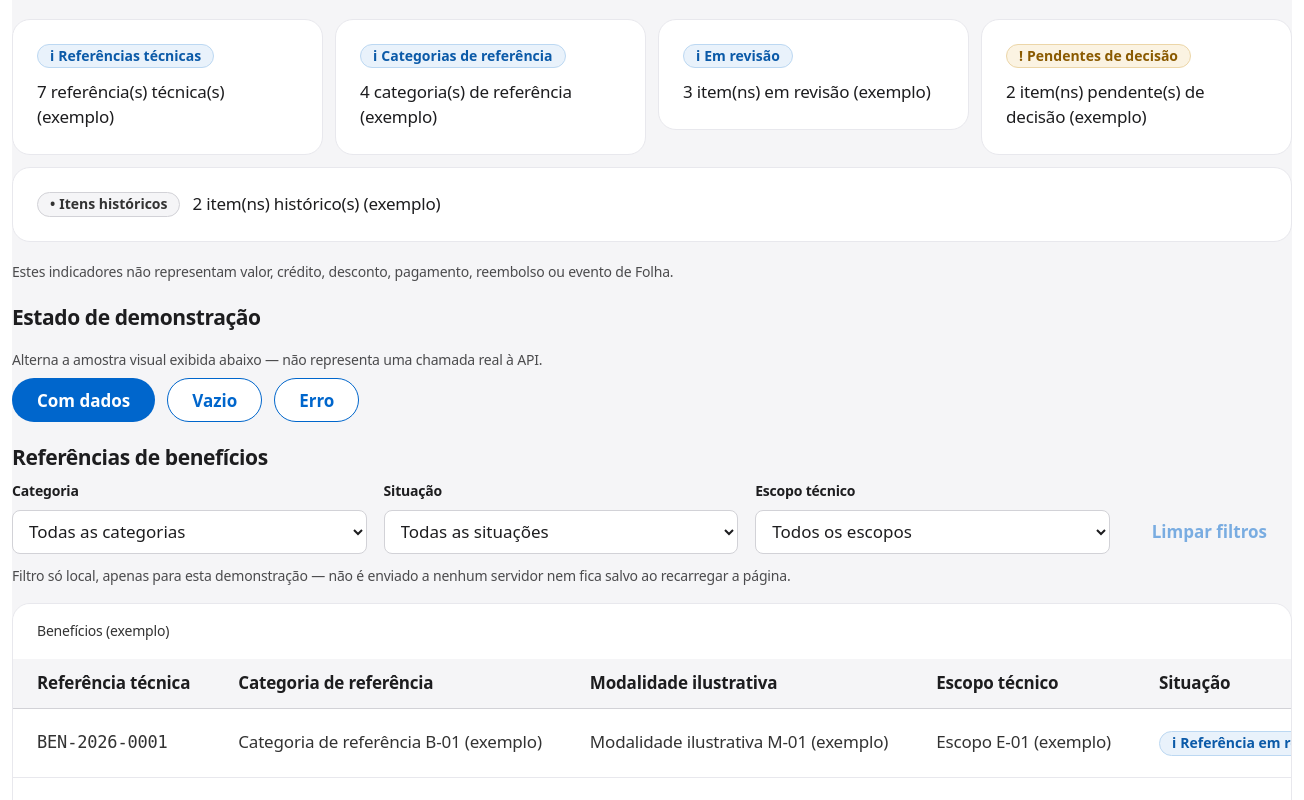
Test: BeneficiosScreen (T092 — tela visual estática) › alterna para o estado vazio e mostra o EmptyState
(page scrolled)
Click the button "Vazio".
click(215, 400)  # box [167,378,262,422]
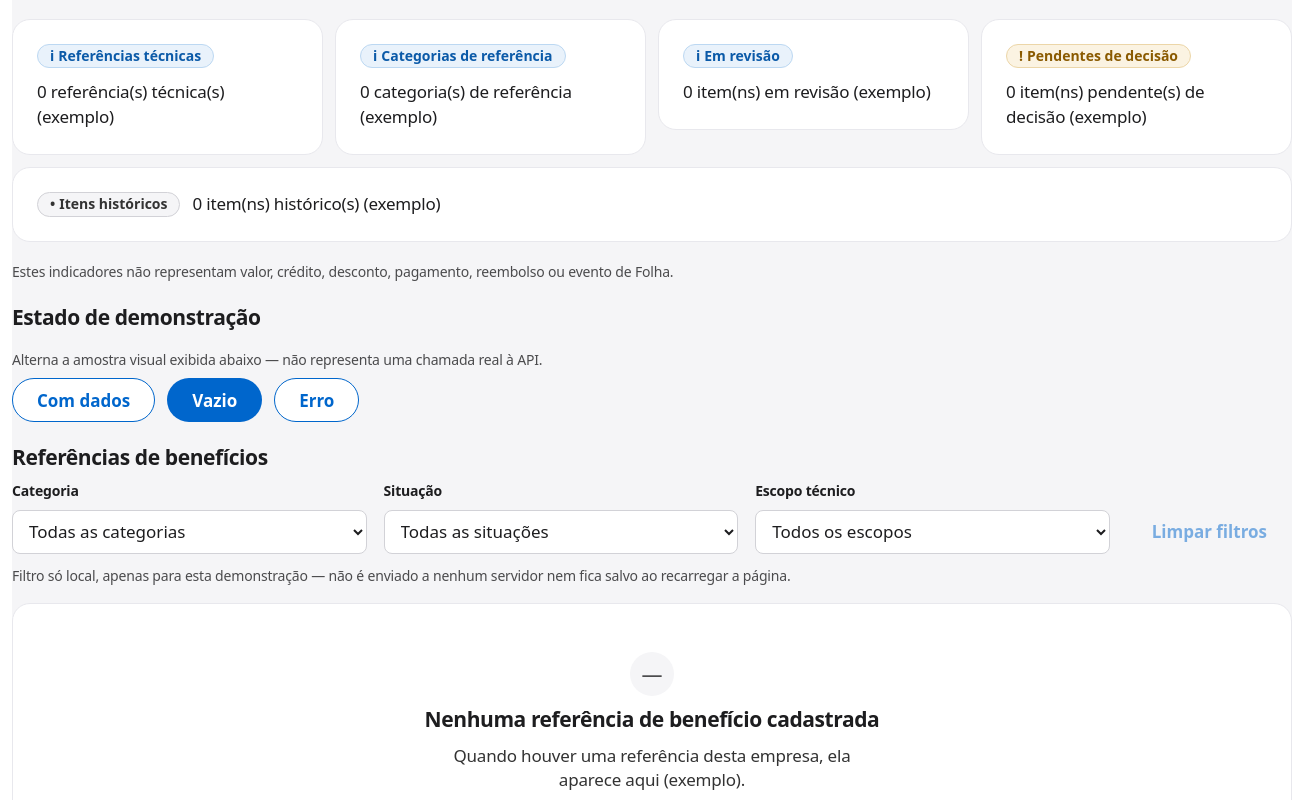
Expected: the text "Benefícios (exemplo)" is gone
Expected: the heading "Nenhuma referência de benefício cadastrada" is shown, [425,708,879,732]
